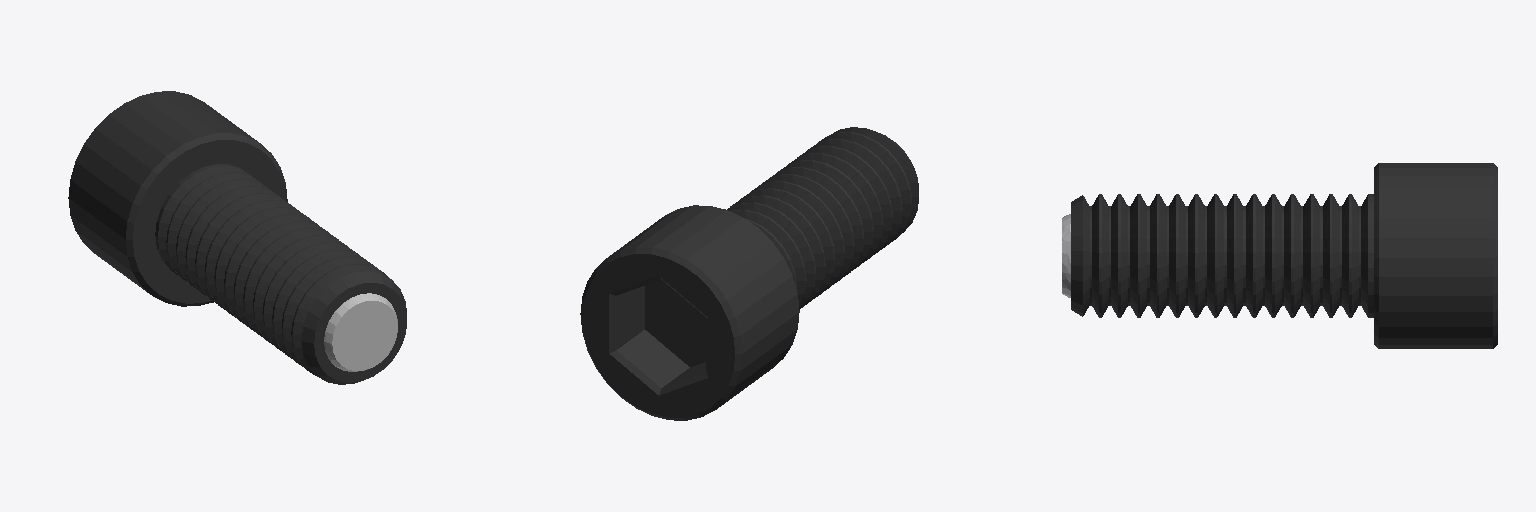
File: bcf-12x30.obj
The picture shows the model from 3 angles: view 1: azimuth 30°, elevation 25°; view 2: azimuth 150°, elevation 25°; view 3: azimuth 270°, elevation 25°; orthographic projection.
Visible parts, largest first — view 1: bcf-12x30_1; view 2: bcf-12x30_1; view 3: bcf-12x30_1.
Part boxes in pixels (x1,y1,x2,y2): bcf-12x30_1: (68, 91, 406, 384); bcf-12x30_1: (580, 127, 918, 420); bcf-12x30_1: (1062, 163, 1497, 348).
Bounding box in the file's own units: 18 × 17.9 × 42.